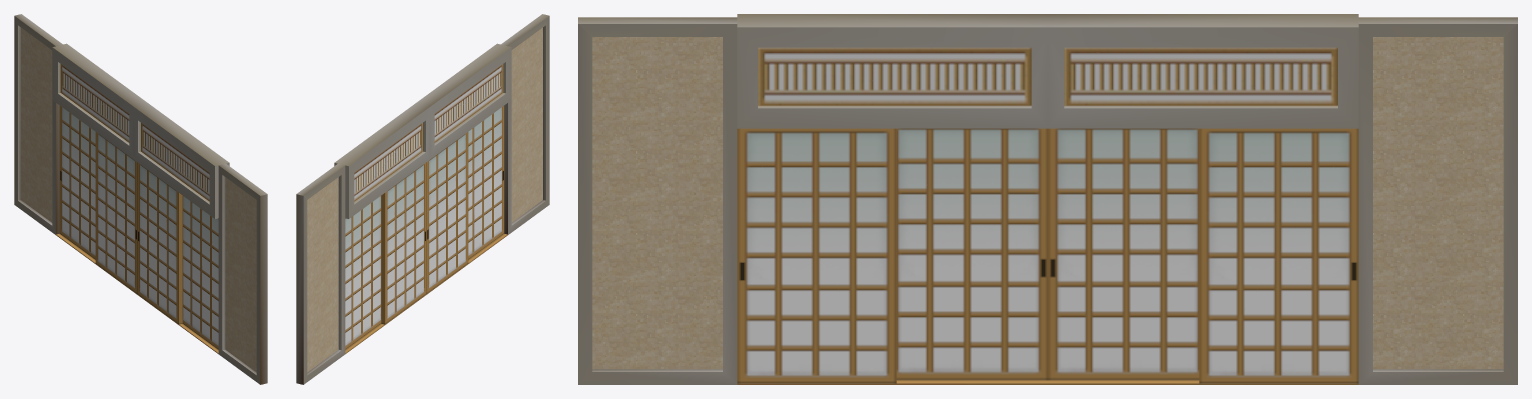
File: syoji_6jyo_01.fbx
The picture shows the model from 3 angles, left to right: view 1: azimuth 30°, elevation 25°; view 2: azimuth 150°, elevation 25°; view 3: azimuth 270°, elevation 25°; orthographic projection. The views are drawn at different scales.
Visible parts, largest first — view 1: ranma01, door01, door03, door02, door04; view 2: ranma01, door03, door01, door04, door02; view 3: ranma01, door04, door02, door03, door01.
Boxes of the visible parts, x1,y1,x2,y2 form: ranma01: [14, 14, 267, 384]; door01: [137, 162, 182, 324]; door03: [95, 132, 137, 293]; door02: [182, 196, 218, 349]; door04: [59, 106, 95, 259]; ranma01: [296, 14, 549, 384]; door03: [381, 162, 426, 324]; door01: [426, 132, 468, 293]; door04: [345, 196, 381, 349]; door02: [468, 106, 504, 259]; ranma01: [578, 14, 1517, 384]; door04: [1199, 128, 1358, 383]; door02: [737, 128, 896, 383]; door03: [1048, 128, 1199, 380]; door01: [896, 128, 1047, 380].
Size of the model in its own units: 40 by 500 by 1180.
